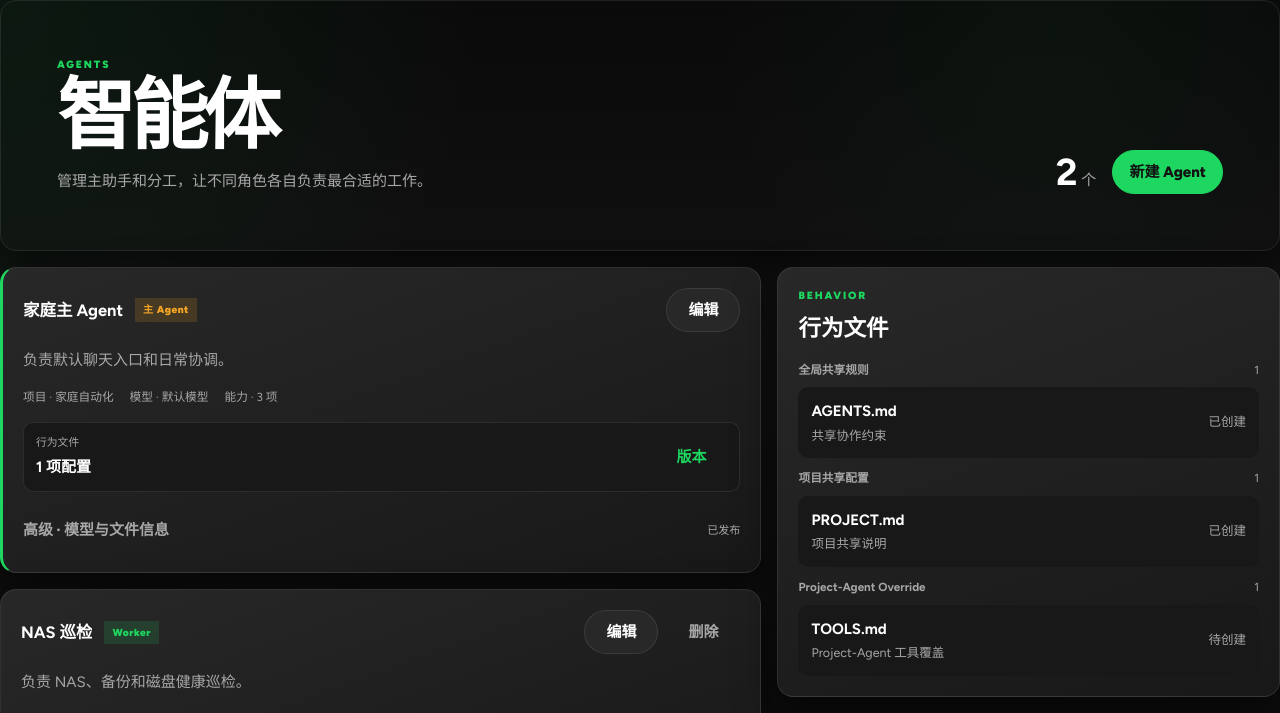
AgentCenter › 编辑器展示行为文件卡片（IDENTITY.md / SOUL.md / HEARTBEAT.md）
打开主 Agent 编辑器
Click the button "编辑" in the row of "家庭主 Agent". click: (703, 310)
box: left=666, top=288, right=740, bottom=332
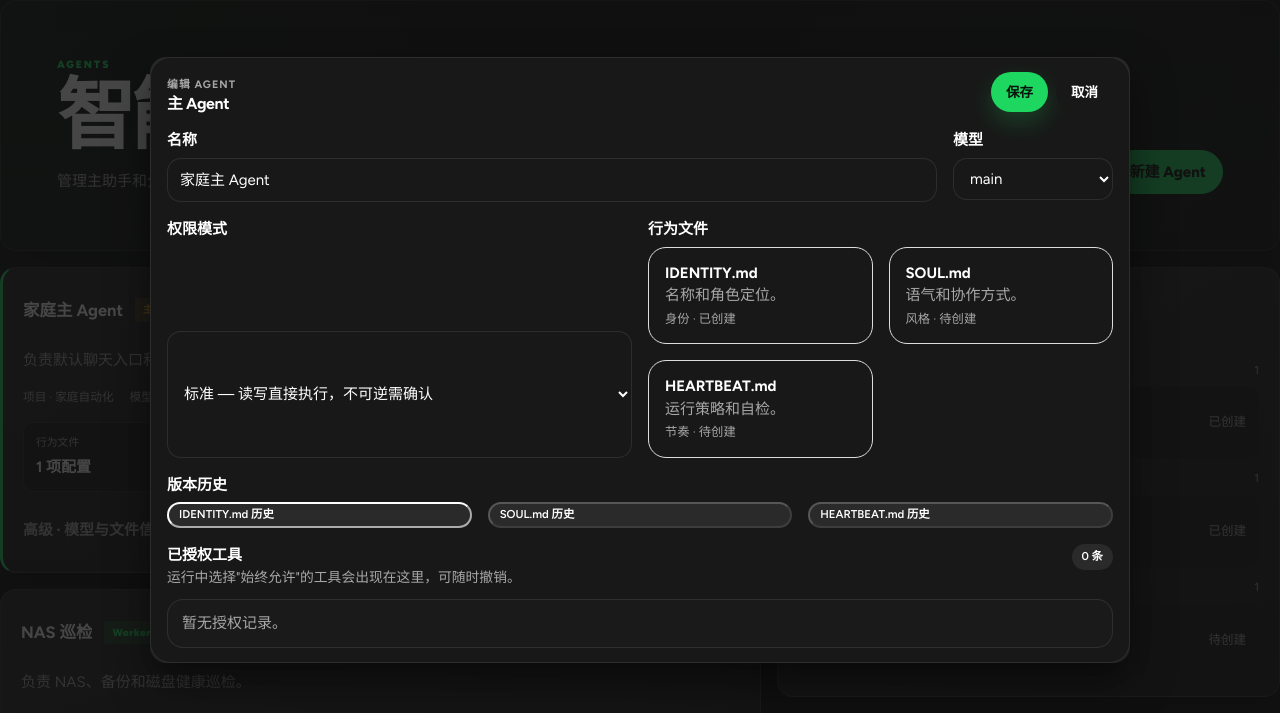
Check: the text "IDENTITY.md" is shown, box left=665, top=264, right=758, bottom=282
Check: the text "SOUL.md" is shown, box left=906, top=264, right=971, bottom=282
Check: the text "HEARTBEAT.md" is shown, box left=665, top=377, right=776, bottom=395
